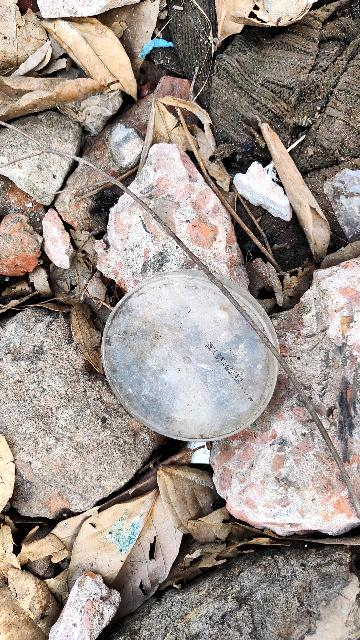hardplastic: (90, 274, 274, 434)
